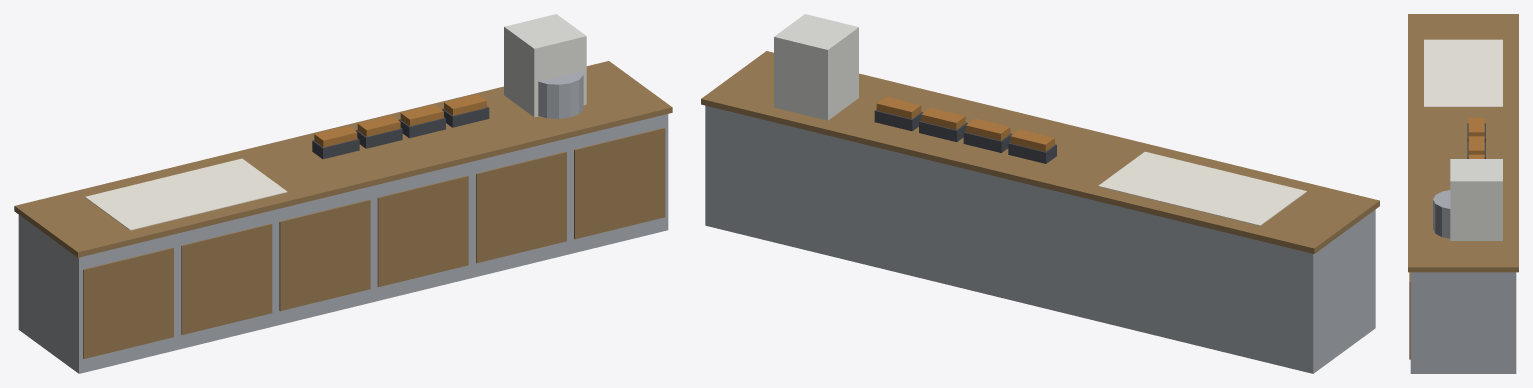
The model's file is baking bench.glb.
The picture shows the model from 3 angles, left to right: view 1: azimuth 30°, elevation 25°; view 2: azimuth 150°, elevation 25°; view 3: azimuth 270°, elevation 25°; orthographic projection. The views are drawn at different scales.
Visible parts, largest first — view 1: baking bench; view 2: baking bench; view 3: baking bench.
Part boxes in pixels (<box>): baking bench: <box>14,14,672,373</box>; baking bench: <box>701,14,1379,373</box>; baking bench: <box>1408,14,1518,373</box>.
Bounding box in the file's own units: 4.54 × 1.4 × 0.84.
